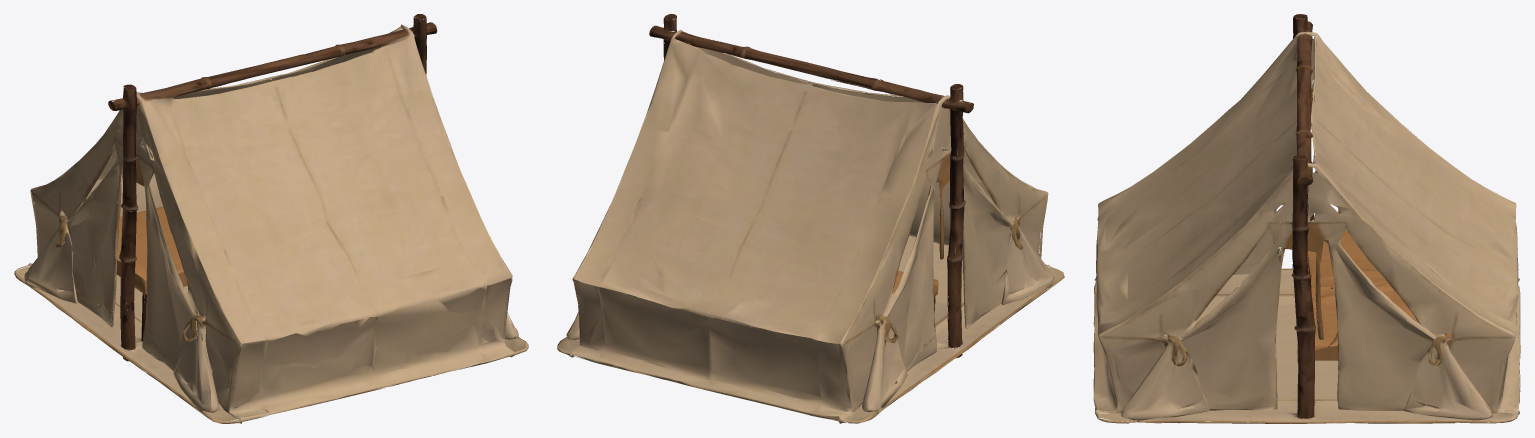
Rendered from carpa.glb.
3 views of the same model, side by side, from view 1: azimuth 30°, elevation 25°; view 2: azimuth 150°, elevation 25°; view 3: azimuth 270°, elevation 25° (orthographic).
Parts seen in each view (by area): view 1: geometry_0; view 2: geometry_0; view 3: geometry_0.
Boxes of the visible parts, <box> form: geometry_0: <box>14,14,528,423</box>; geometry_0: <box>557,14,1064,423</box>; geometry_0: <box>1093,14,1520,423</box>.
Size of the model in its own units: 2.6 by 2.1 by 3.
Materials: 1 (1 with a texture image).
